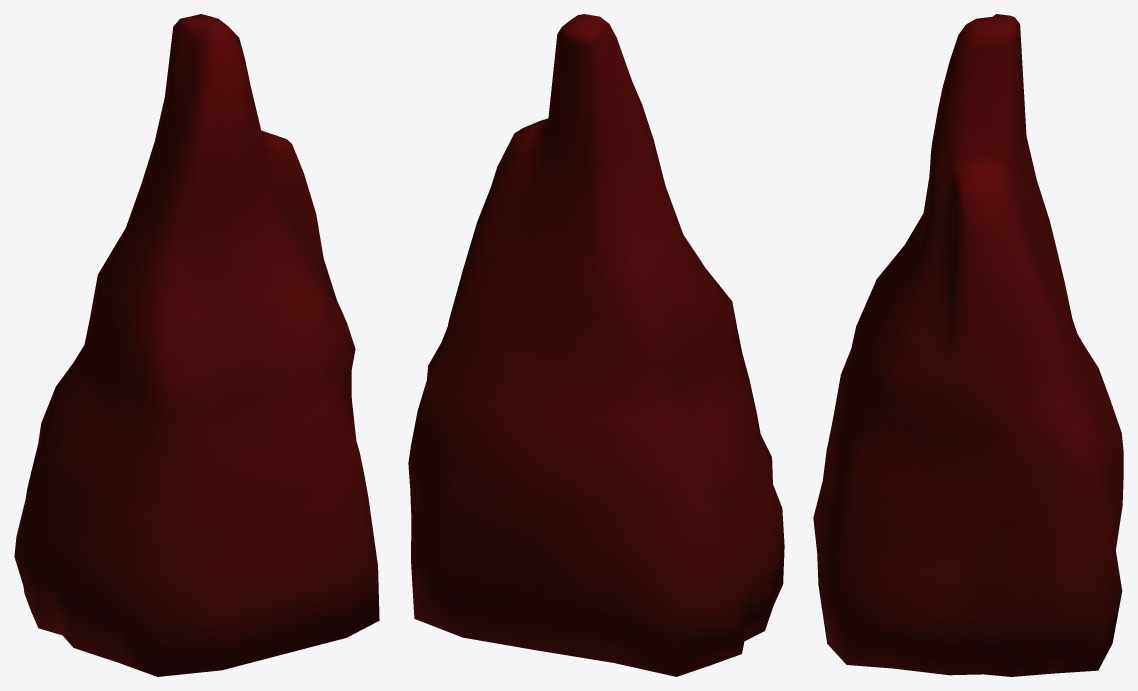
The model's file is geology-landforms-rockcanyonhuge_v2.fbx.
3 views of the same model, side by side, from view 1: azimuth 30°, elevation 25°; view 2: azimuth 150°, elevation 25°; view 3: azimuth 270°, elevation 25° (orthographic). The views are drawn at different scales.
Parts seen in each view (by area): view 1: RockCanyonHuge_v2; view 2: RockCanyonHuge_v2; view 3: RockCanyonHuge_v2.
Boxes of the visible parts, box(x1,y1,x2,y2) form: RockCanyonHuge_v2: box(14, 14, 379, 676); RockCanyonHuge_v2: box(408, 14, 784, 676); RockCanyonHuge_v2: box(813, 14, 1123, 676).
Size of the model in its own units: 33.94 by 62.26 by 29.59.
